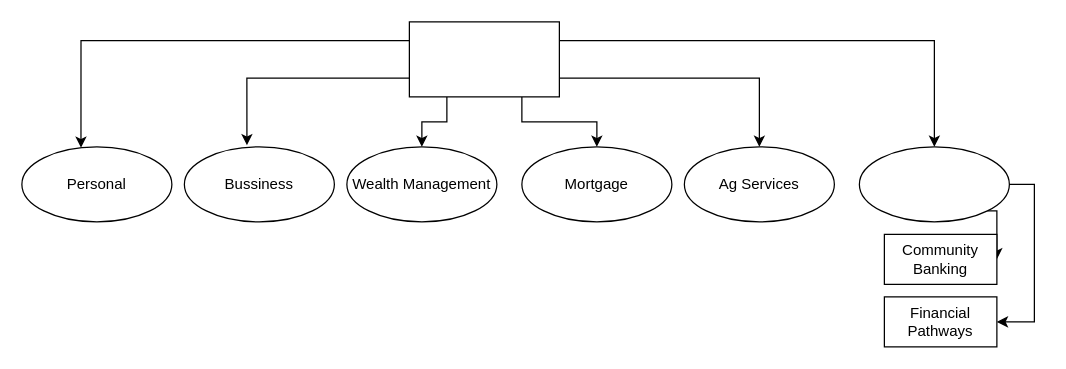
Some shapes in this 1066 by 369 pixel diagram are drawn without their labels. The box of each missing label's shape, as (x1, y1, x2, y2) in pixels:
Community: (858, 146, 1009, 222)
Main Site: (408, 21, 559, 97)
